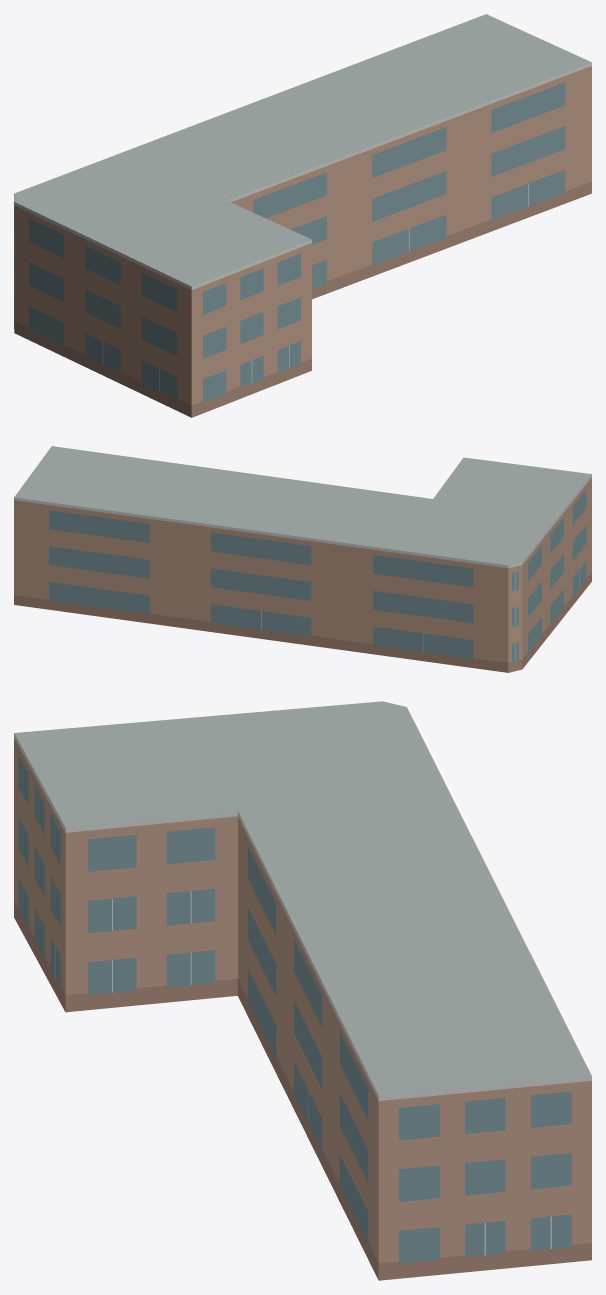
Rendered from survey-upis-32939939.glb.
3 views of the same model, one above another, from view 1: azimuth 30°, elevation 25°; view 2: azimuth 150°, elevation 25°; view 3: azimuth 270°, elevation 25° (orthographic). The views are drawn at different scales.
Visible parts, largest first — view 1: survey-upis-32939939.tmp; view 2: survey-upis-32939939.tmp; view 3: survey-upis-32939939.tmp.
Part boxes in pixels (x1,y1,x2,y2): survey-upis-32939939.tmp: (14,14,591,417); survey-upis-32939939.tmp: (14,446,591,672); survey-upis-32939939.tmp: (14,701,591,1280).
Bounding box in the file's own units: 42.05 × 9.15 × 26.
